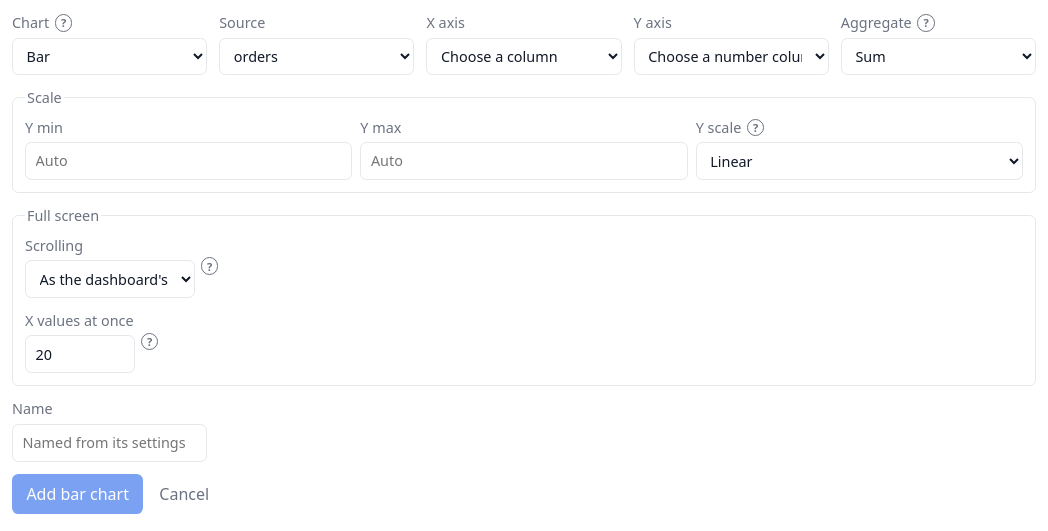
says on Save what a chart still needs, and saves nothing until it has it
Later steps or results of the test are not shown.
Click the button "Add bar chart" at (78, 494), box x1=12 y1=474 x2=143 y2=514
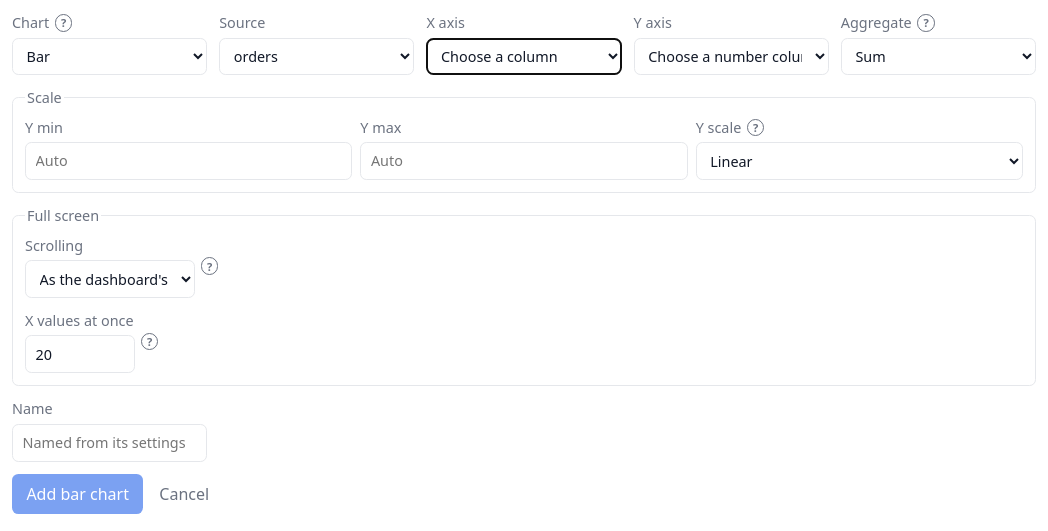
Select "day" in the dropdown labelled "X axis" at (524, 56), box x1=426 y1=38 x2=622 y2=75
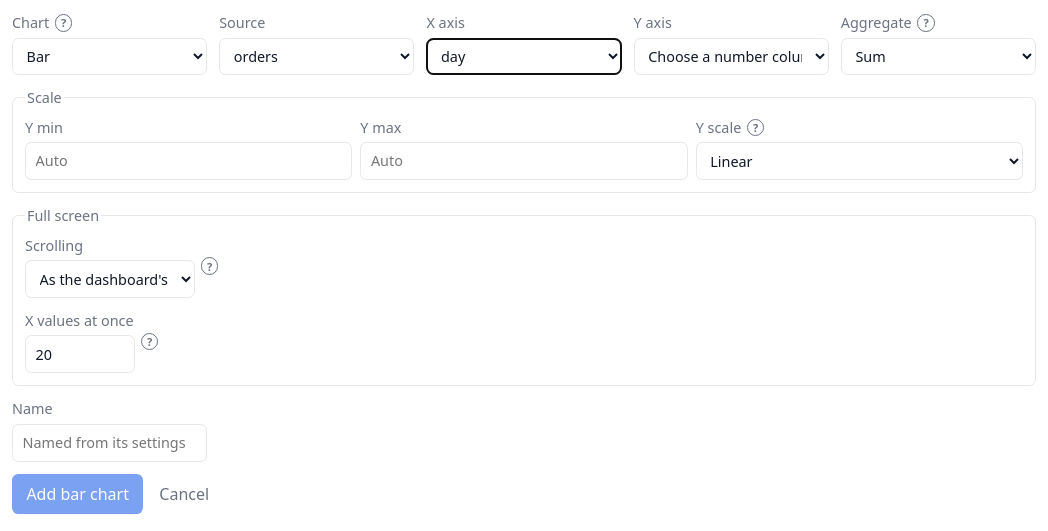
Select "Count" in the dropdown labelled "Aggregate" at (938, 56), box x1=841 y1=38 x2=1036 y2=75
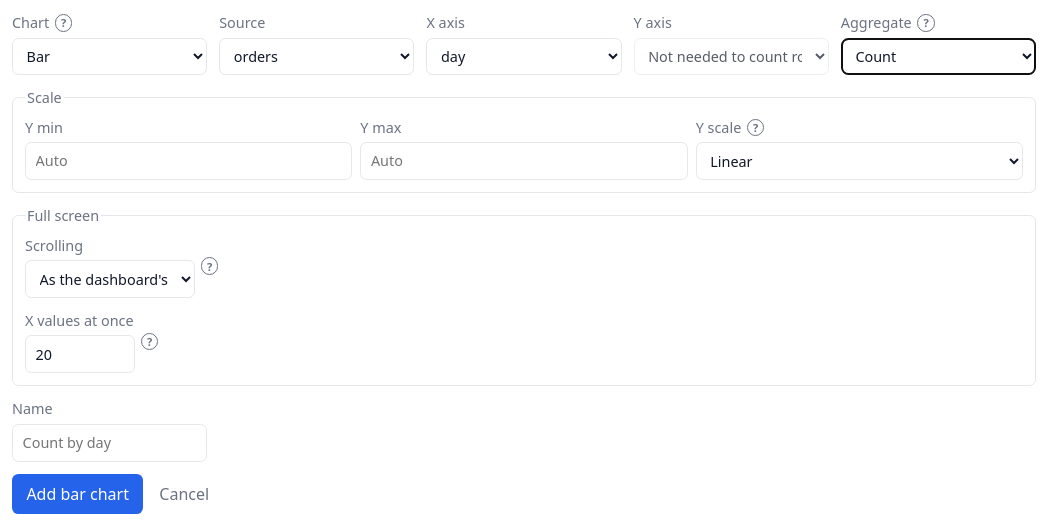
Now the button "Add bar chart" does not have attribute aria-disabled, box x1=12 y1=474 x2=143 y2=514
